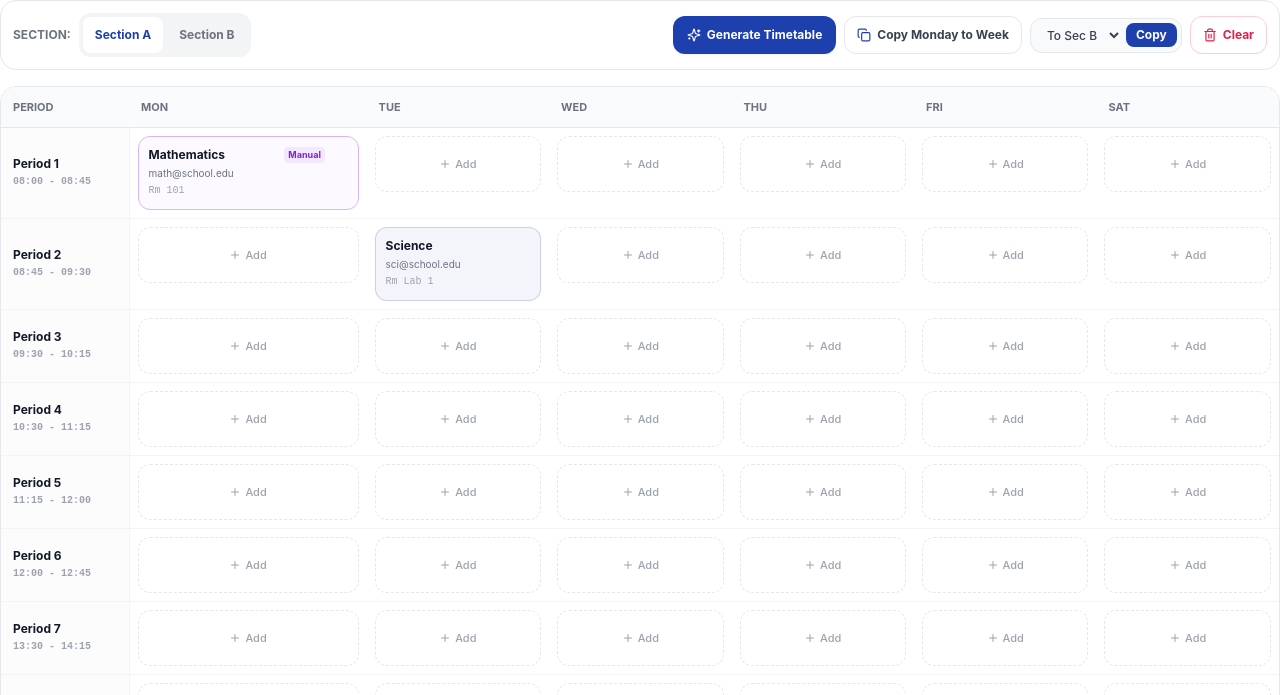
Scenario: Milestone 3 Challenger 2: Mobile Reflow, Click Budget & UI Invariants › 3. Generator Preview Modal 3-Tier Report Rendering › should render all three tiers: workload fit stats, clash alert list, and unassigned teacher allocations
# Click "Generate Timetable"
What coordinates should you click on to do the following:
click the button "Generate Timetable"
I would click on:
 (755, 35)
Its box is [673,16,836,54].
(page scrolled)
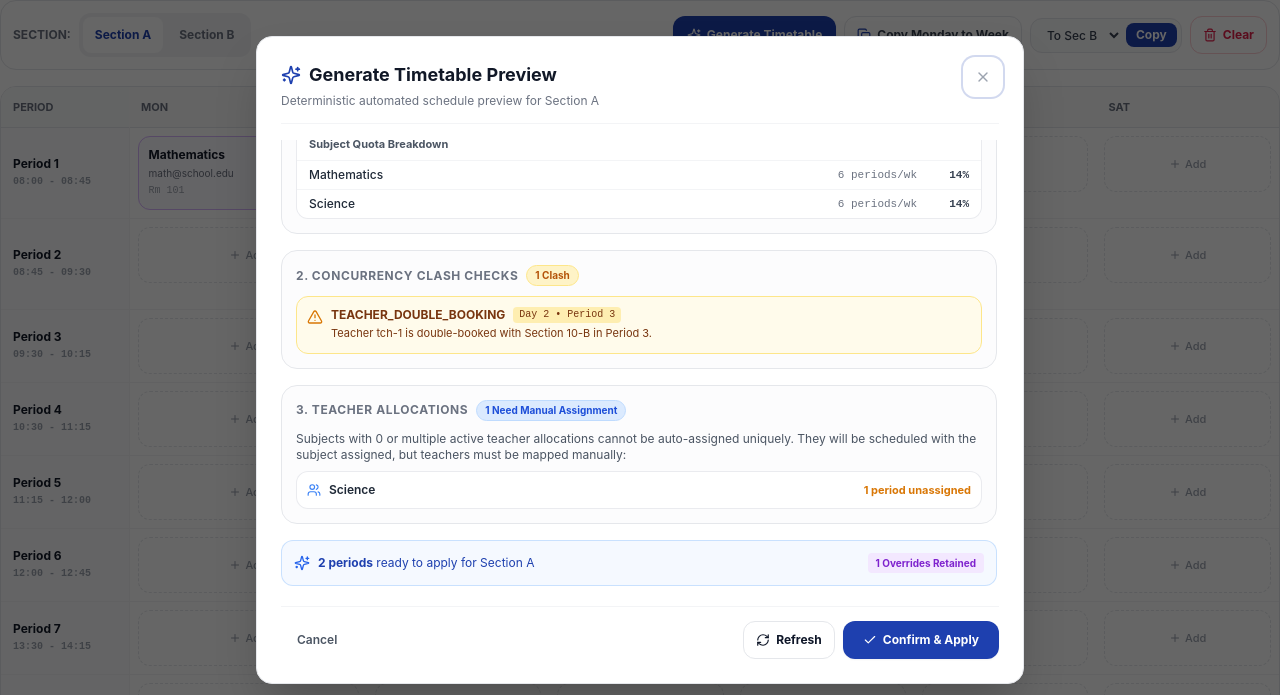
Expected: the text "Subject Quota Breakdown" is shown, [297,140,981,161]
Expected: the text "2. Concurrency Clash Checks" is shown, [296,268,518,284]
Expected: the text "1 Clash" is shown, [526,265,579,286]
